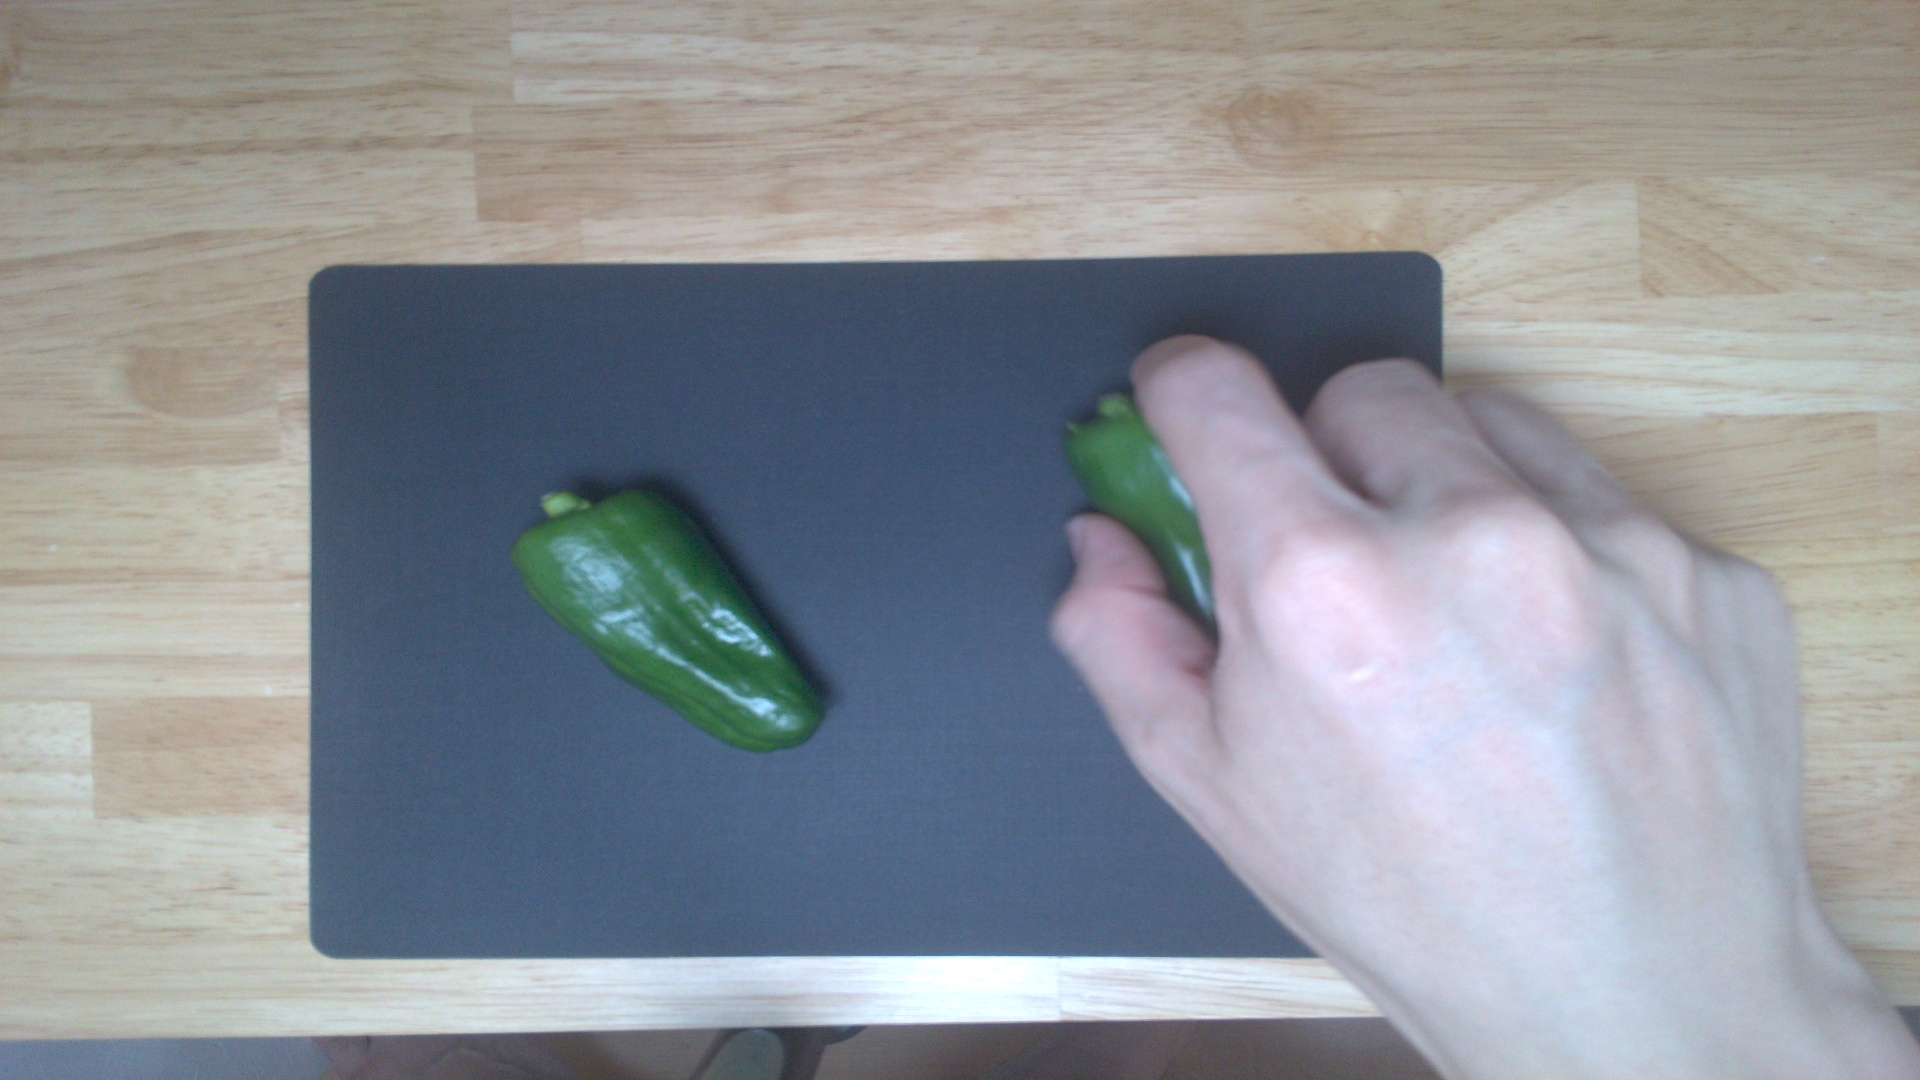Piman: (506, 476, 825, 757)
